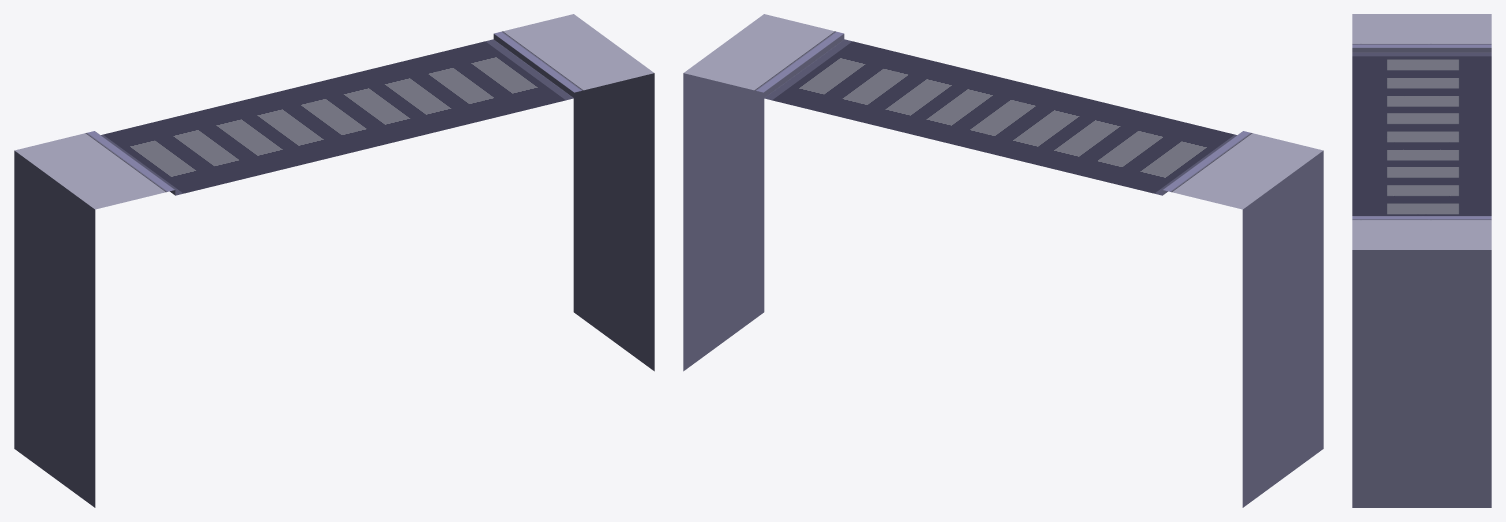
The model's file is block_1.fbx.
3 renders of one model, left to right at view 1: azimuth 30°, elevation 25°; view 2: azimuth 150°, elevation 25°; view 3: azimuth 270°, elevation 25°, orthographic. The views are drawn at different scales.
Visible parts, largest first — view 1: Block_1; view 2: Block_1; view 3: Block_1.
Part boxes in pixels (<box>): Block_1: <box>14,14,654,507</box>; Block_1: <box>683,14,1323,507</box>; Block_1: <box>1352,14,1491,507</box>.
Bounding box in the file's own units: 20 × 10.19 × 5.
1 material, 1 textured.
